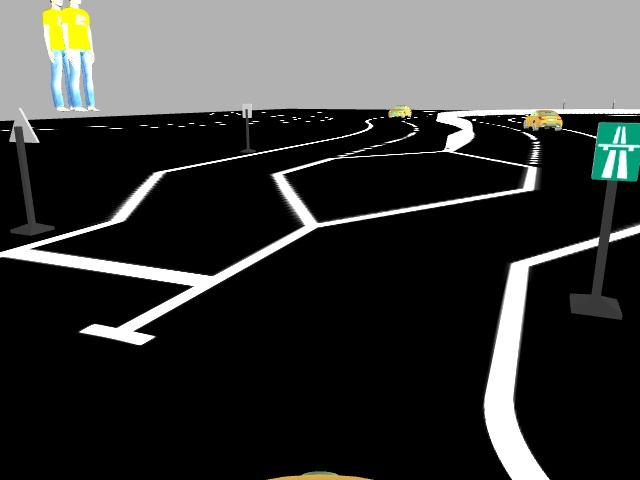HighwayEntrance: (588, 118, 638, 184)
